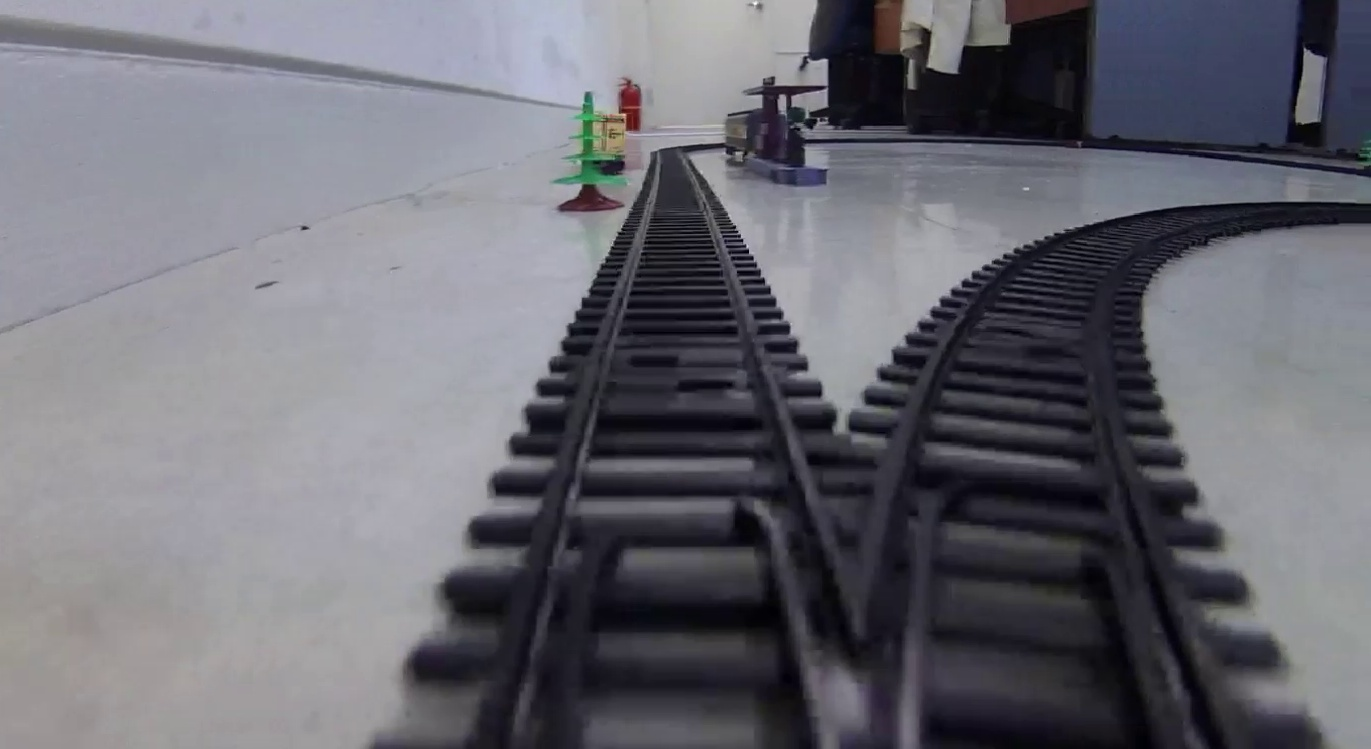tree: (554, 93, 626, 213)
